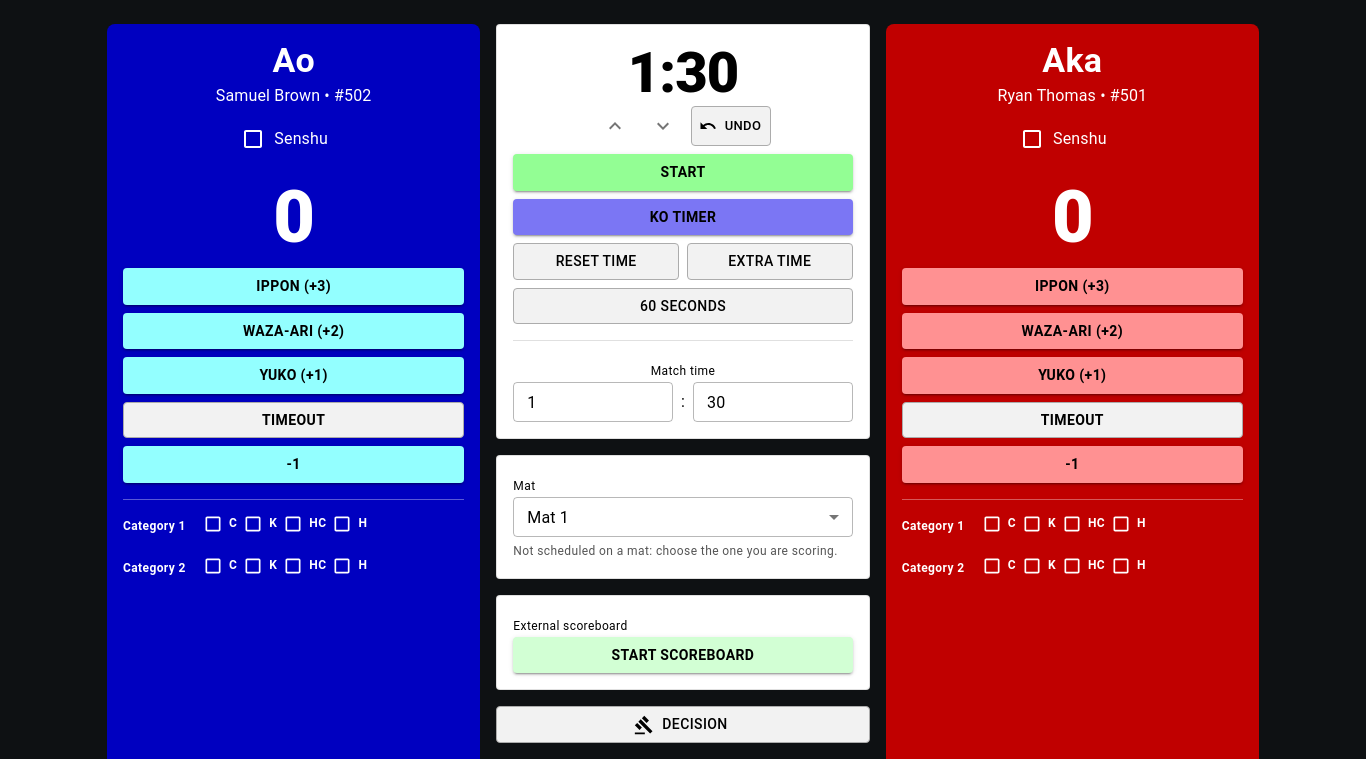
Test case: console observe mode › announces the verdict once the rules decide the bout
Click the button "Ippon (+3)" below "Ryan Thomas". click: (1072, 286)
box: [902, 268, 1243, 304]
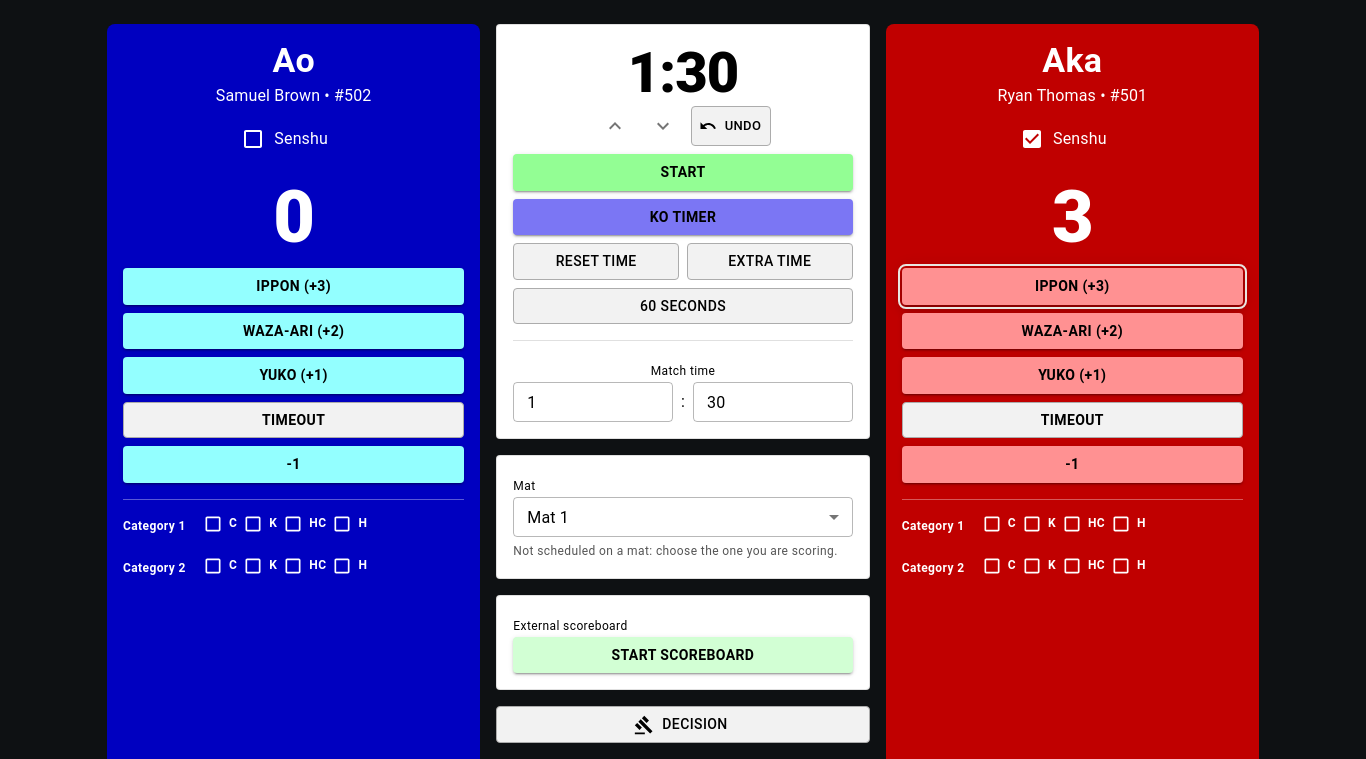
Click the button "Ippon (+3)" below "Ryan Thomas". click: (1072, 286)
box: [902, 268, 1243, 304]
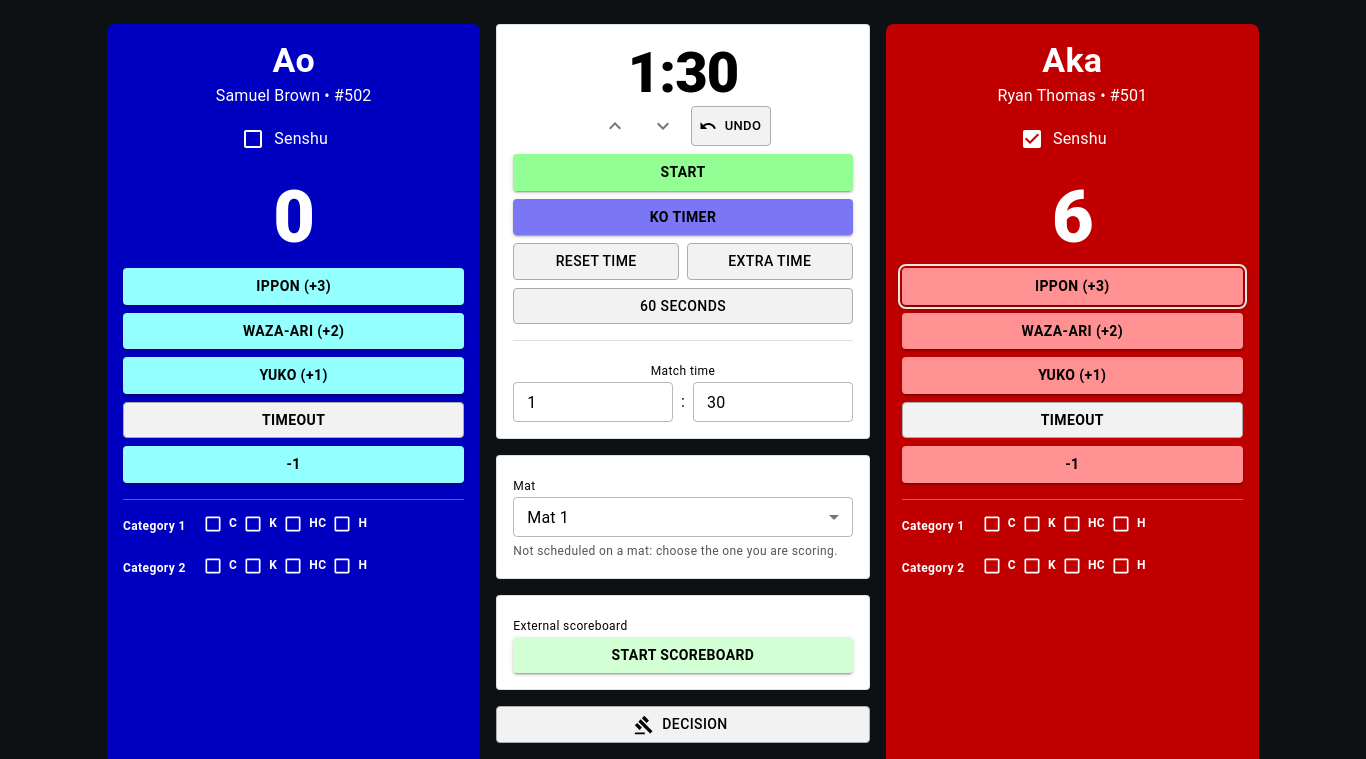
Click the button "Ippon (+3)" below "Ryan Thomas". click: (1072, 286)
box: [902, 268, 1243, 304]
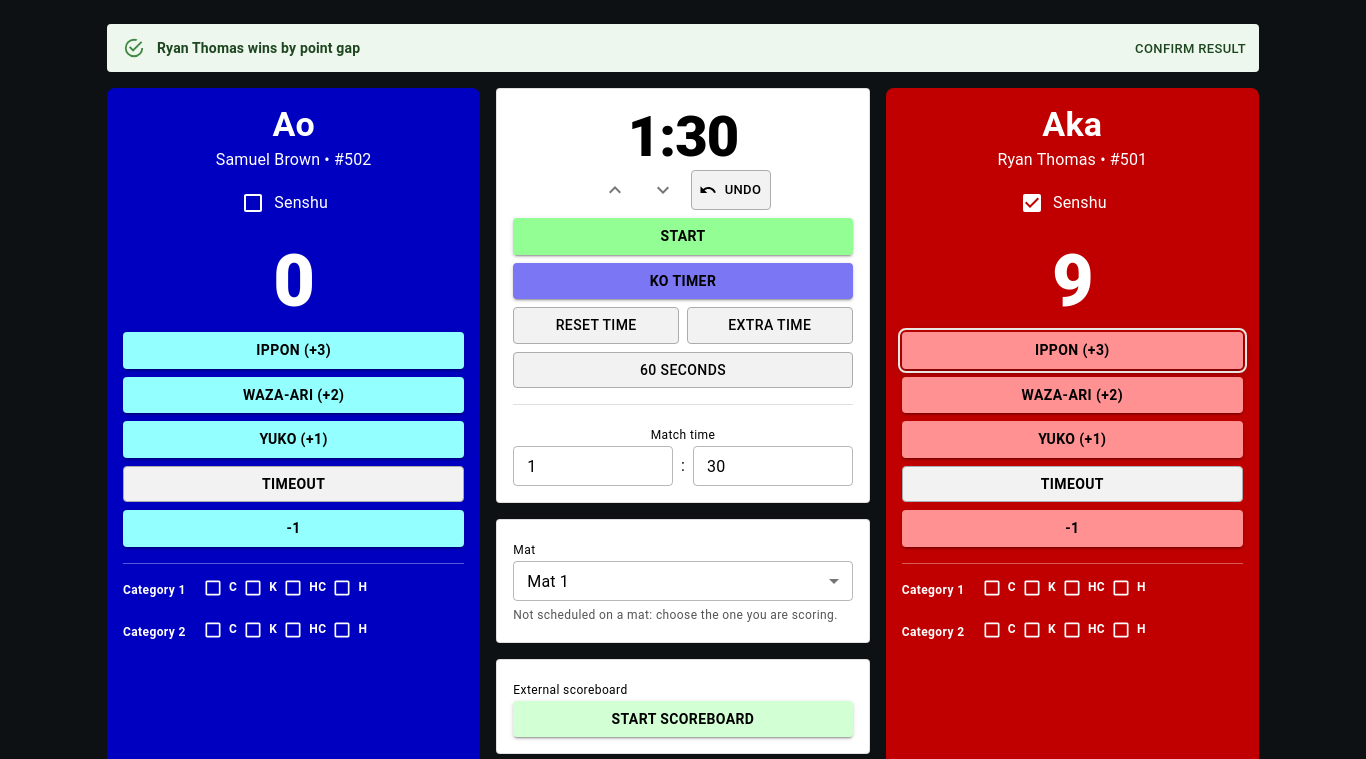
Expected: the text "Ryan Thomas wins by point gap" is shown, [157, 40, 360, 56]
Expected: the button "Confirm result" is shown, [1130, 34, 1251, 65]
